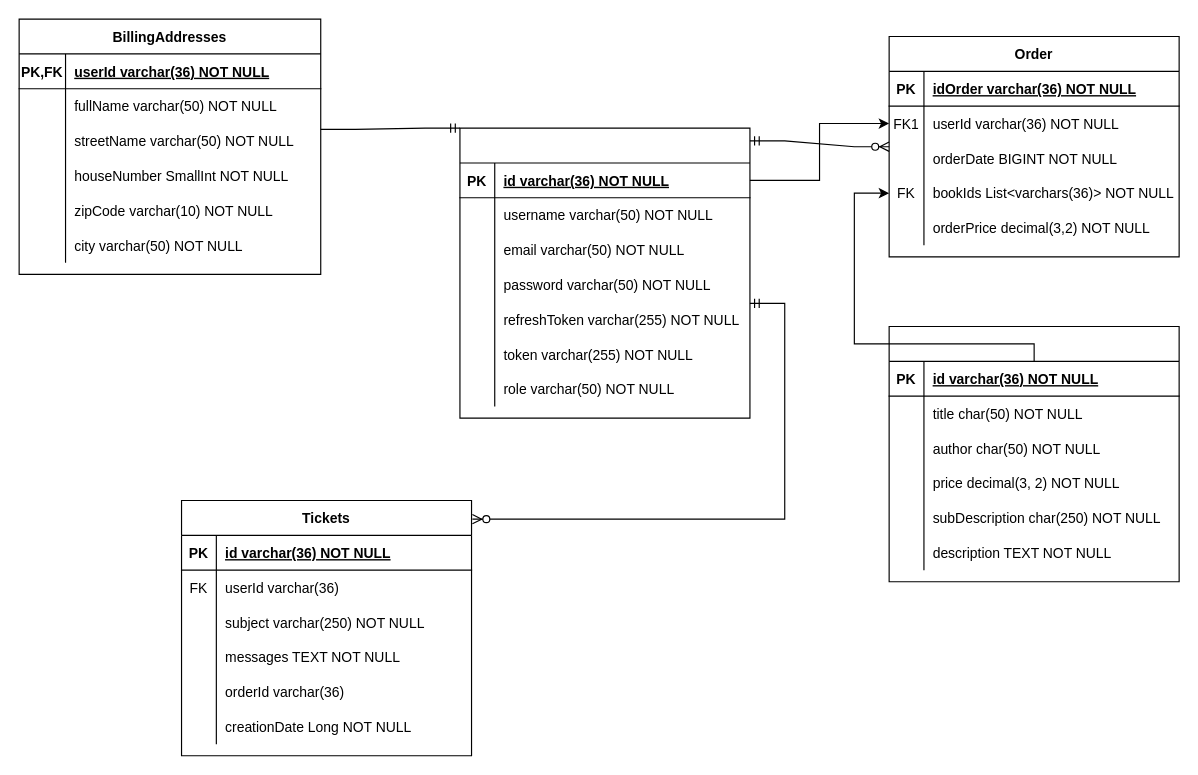
Image size: 1198x775. Some labels were removed from this diagram. Each missing label, with the box of its shape:
Books: (888, 325, 1179, 582)
Users: (459, 127, 750, 418)
